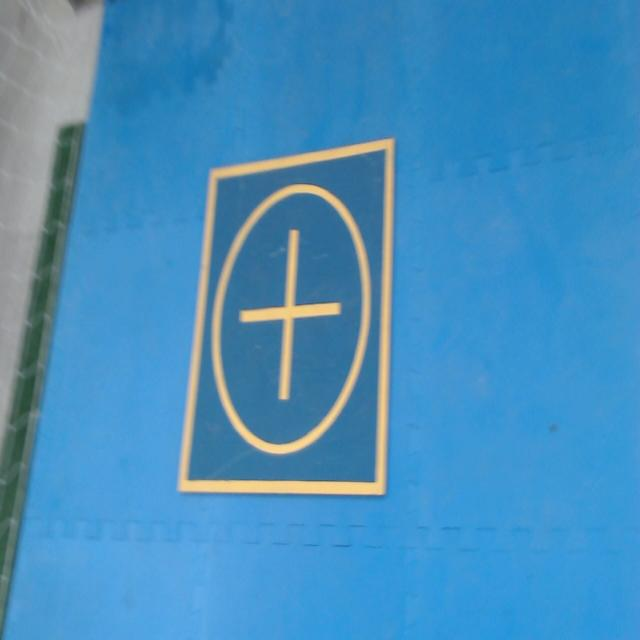base_pouso: (176, 140, 397, 495)
